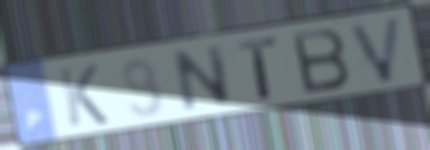9: (120, 55, 167, 121)
B: (288, 25, 353, 97)
K: (55, 62, 112, 130)
N: (171, 41, 234, 115)
T: (235, 34, 280, 101)
V: (345, 12, 405, 86)
